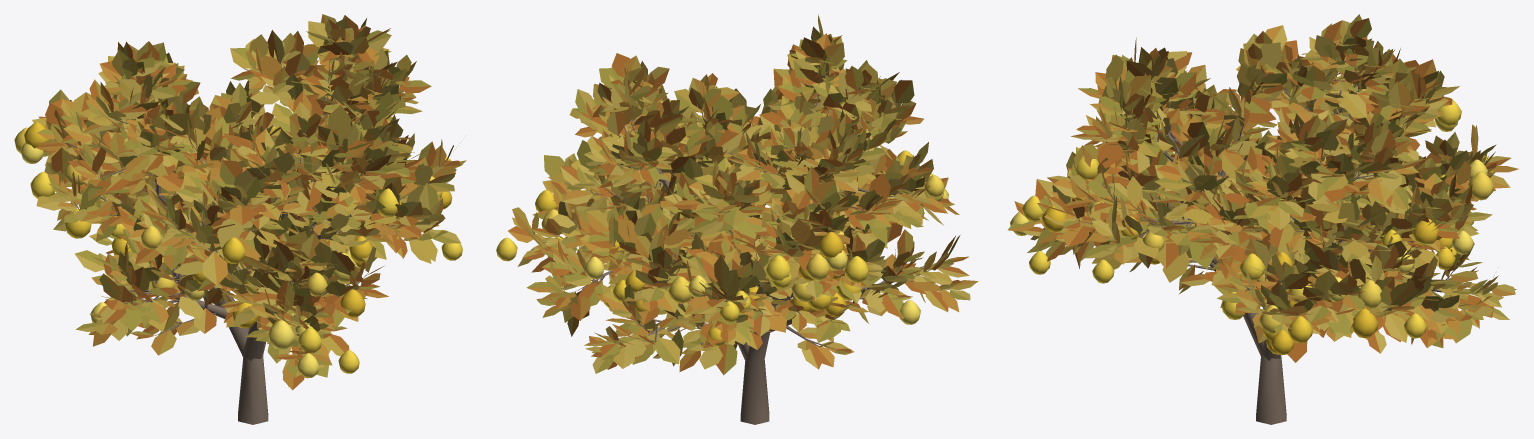
The model's file is cognassier_dore_automne.glb.
The picture shows the model from 3 angles, left to right: view 1: azimuth 30°, elevation 25°; view 2: azimuth 150°, elevation 25°; view 3: azimuth 270°, elevation 25°; orthographic projection. The views are drawn at different scales.
Parts seen in each view (by area): view 1: Cognassier_Feuillage, Cognassier_Coings, Cognassier_Tronc; view 2: Cognassier_Feuillage, Cognassier_Coings, Cognassier_Tronc; view 3: Cognassier_Feuillage, Cognassier_Coings, Cognassier_Tronc.
Boxes of the visible parts, box(x1,y1,x2,y2) form: Cognassier_Feuillage: box(32, 14, 466, 390); Cognassier_Coings: box(14, 116, 462, 378); Cognassier_Tronc: box(66, 58, 446, 424); Cognassier_Feuillage: box(508, 14, 978, 375); Cognassier_Coings: box(496, 150, 948, 346); Cognassier_Tronc: box(532, 65, 949, 424); Cognassier_Feuillage: box(1008, 14, 1518, 362); Cognassier_Coings: box(1010, 62, 1495, 355); Cognassier_Tronc: box(1038, 66, 1487, 424).
Bounding box in the file's own units: 3.25 × 2.7 × 3.41.
